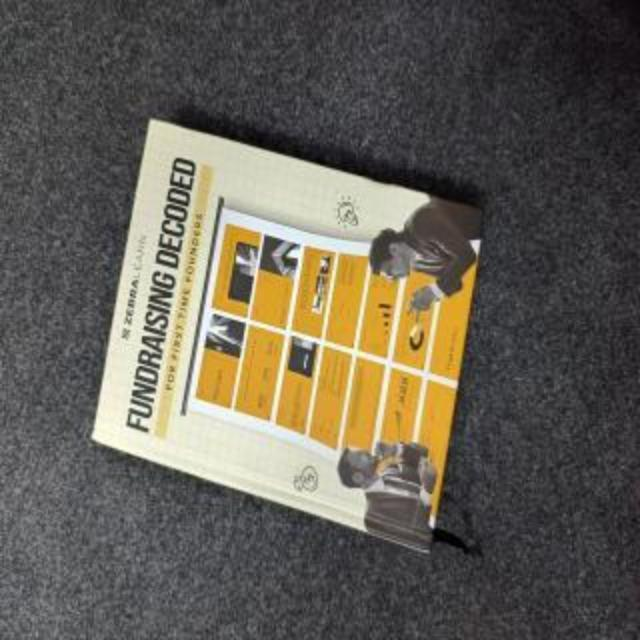book: (90, 84, 492, 576)
